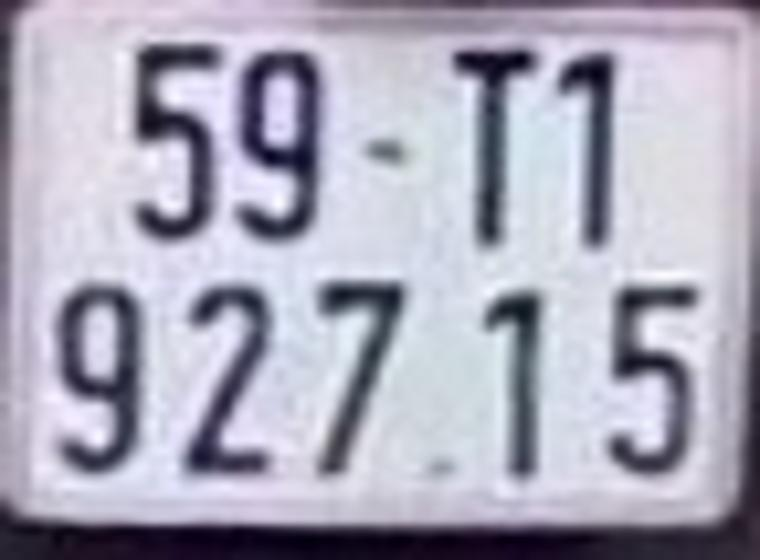-: (369, 137, 406, 161)
.: (431, 459, 453, 476)
1: (564, 51, 606, 246)
2: (187, 284, 260, 473), (483, 292, 543, 476)
5: (607, 284, 699, 472)
7: (315, 279, 397, 479)
8: (133, 47, 211, 235)
9: (53, 285, 137, 474), (237, 59, 319, 236)
T: (455, 49, 532, 248)
